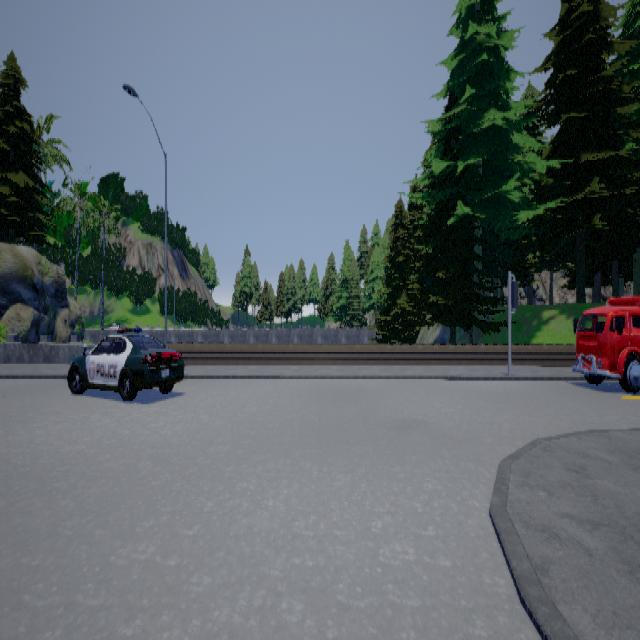vehicle: (66, 322, 184, 399), (571, 295, 639, 392)
